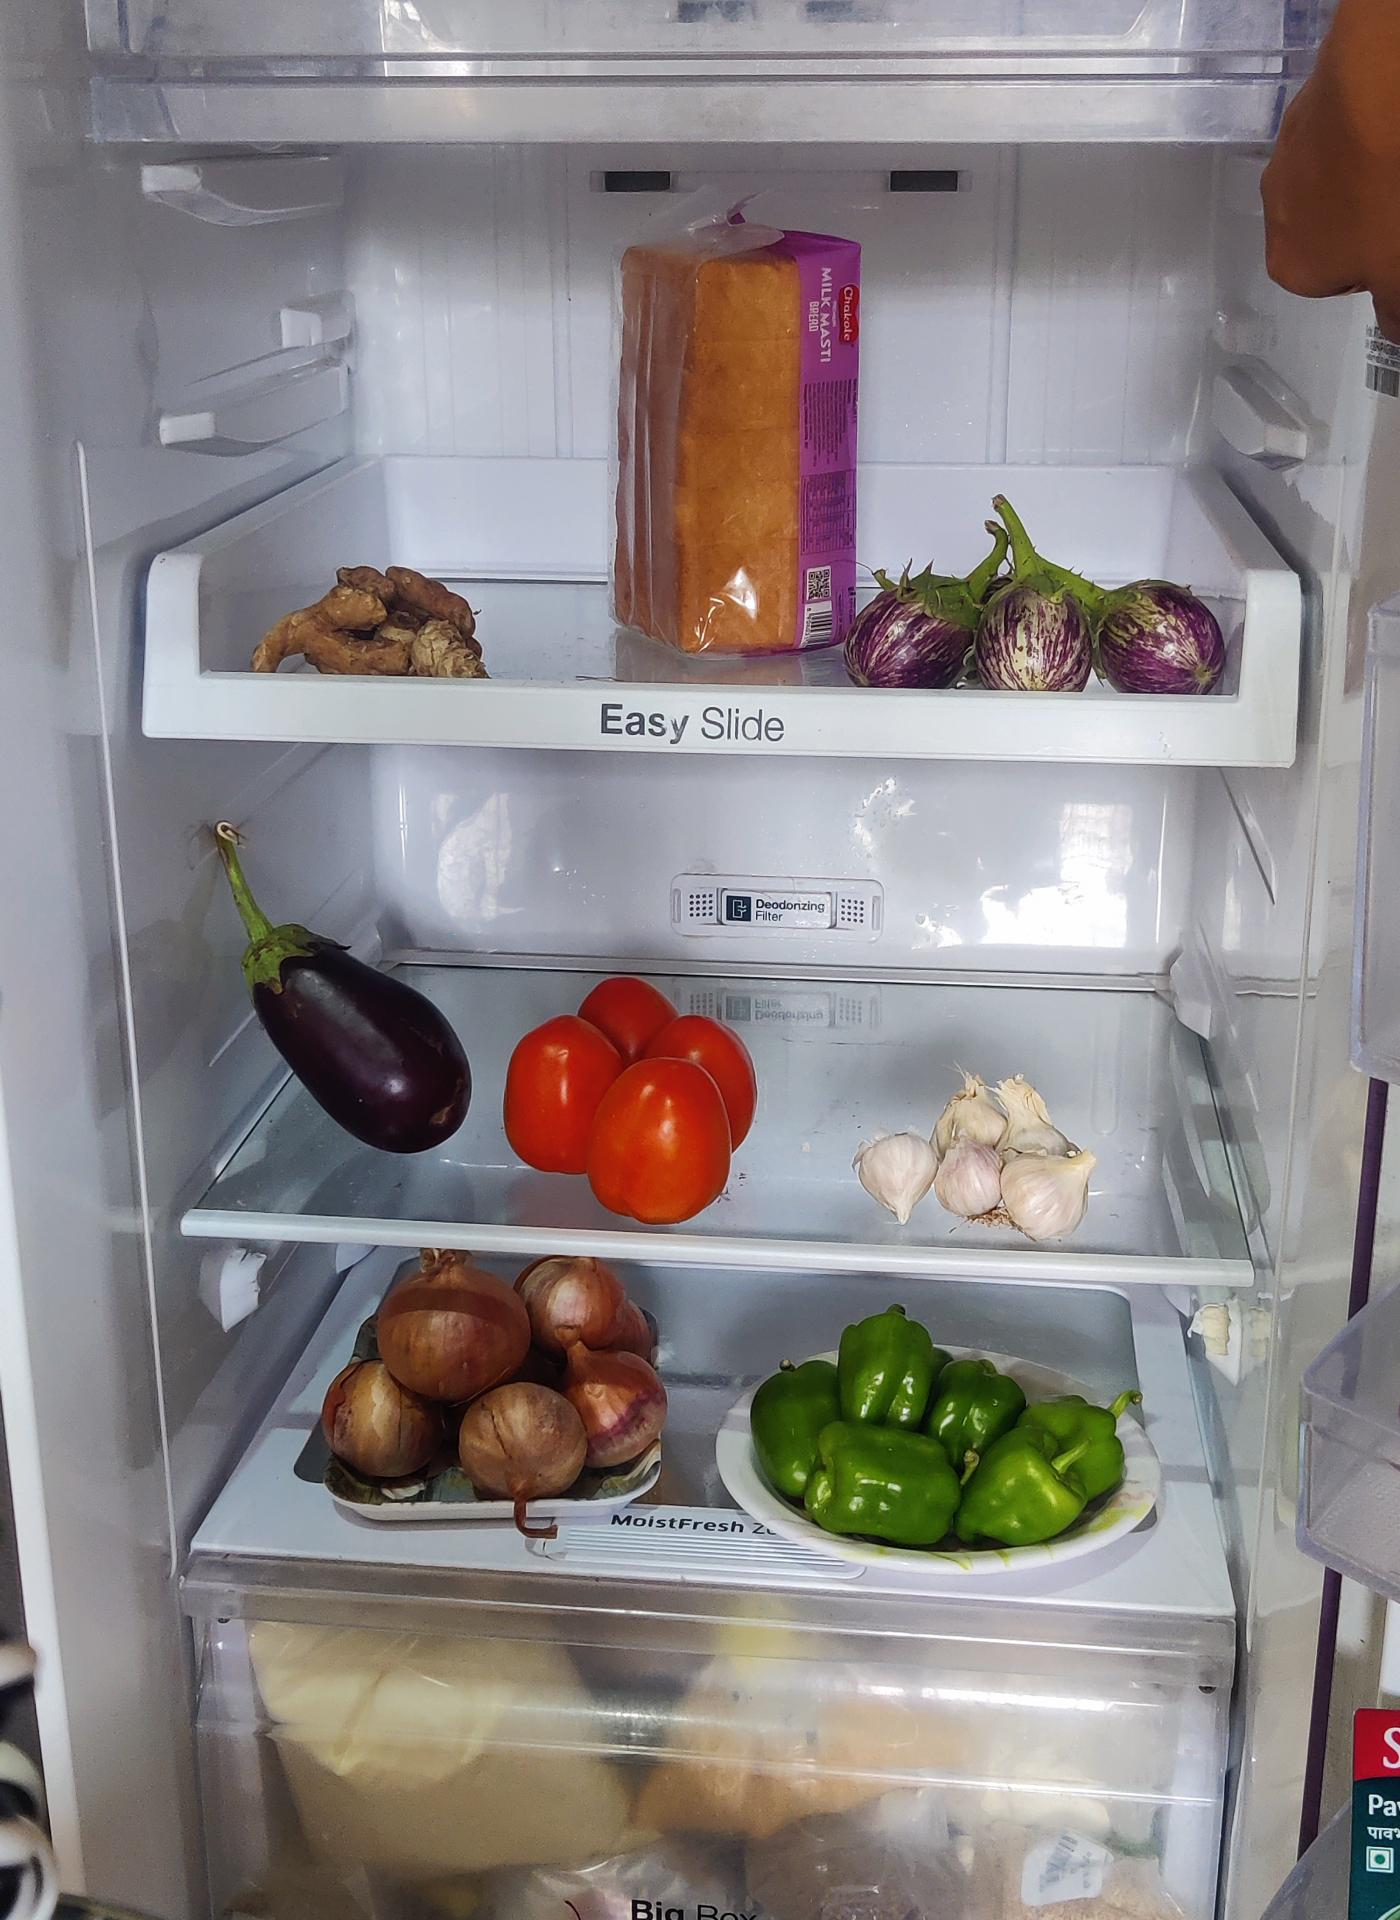bread: (607, 218, 872, 657)
brinjal: (243, 871, 471, 1151), (851, 525, 1226, 693)
capsicum: (751, 1313, 1141, 1552)
garlic: (853, 1075, 1093, 1245)
ginger: (245, 563, 494, 684)
onion: (315, 1261, 662, 1506)
tomato: (504, 966, 759, 1215)
